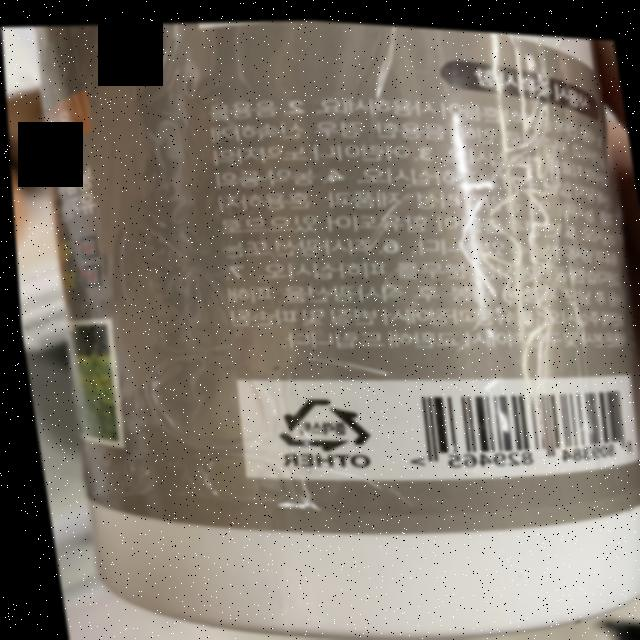Plastic: (263, 383, 370, 453)
